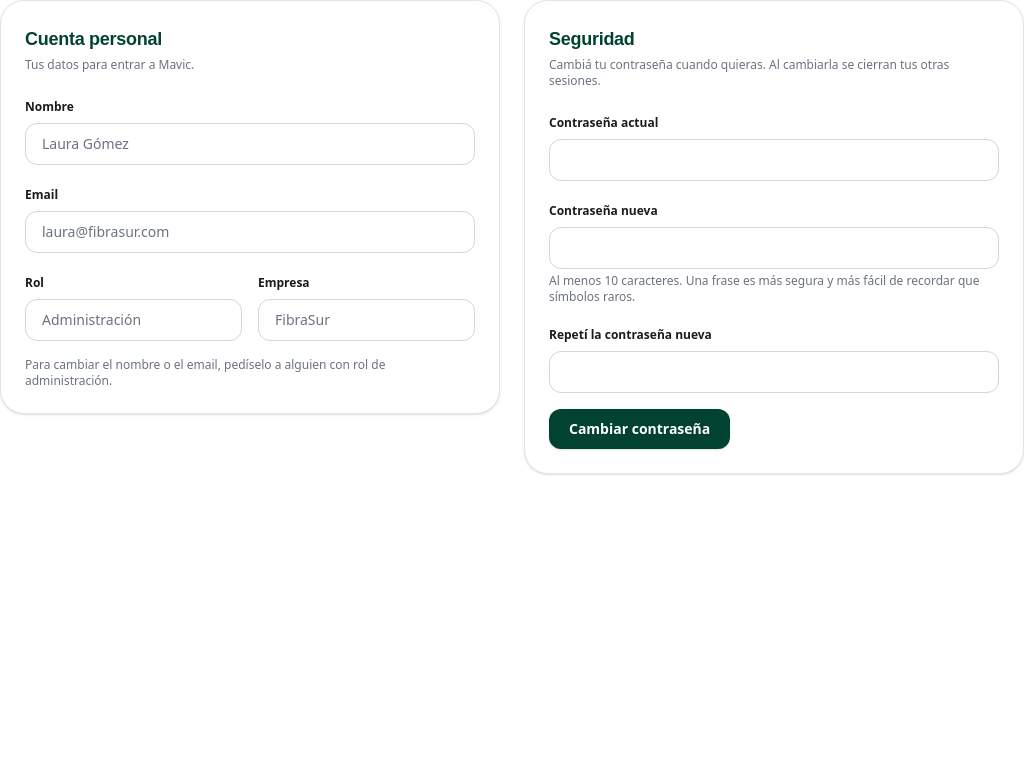
Test: Mi cuenta: cambiar contraseña › si sale bien, avisa que se cerraron las otras sesiones y limpia los campos
Expected: the field showing "Laura Gómez" is shown, [25,123,475,165]
Type "demo-mavic-2026" into the password field labelled "Contraseña actual" at (774, 160), box [549,139,999,181]
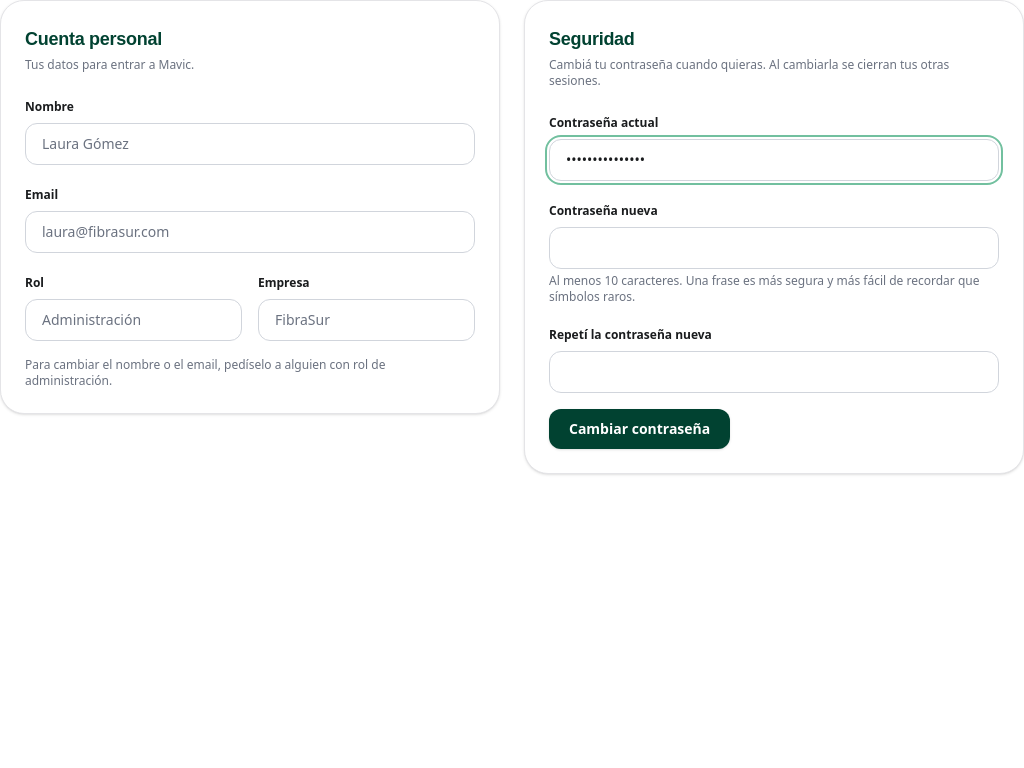
Type "una frase larga" into the password field labelled "Contraseña nueva" at (774, 248), box [549,227,999,269]
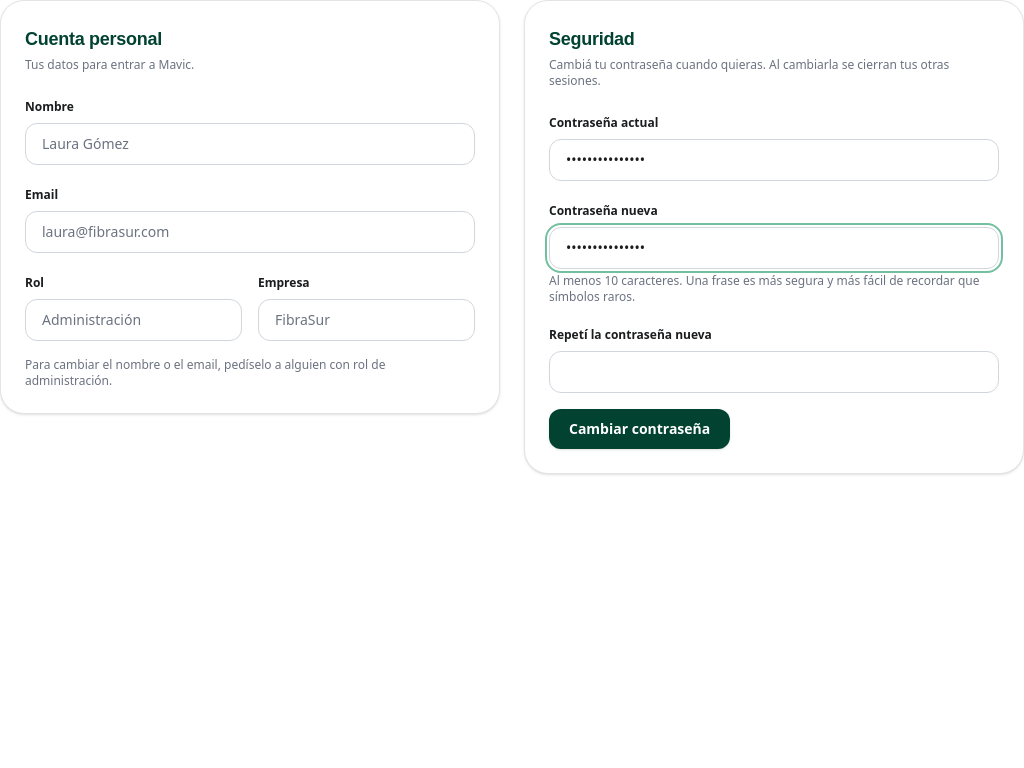
Type "una frase larga" into the password field labelled "Repetí la contraseña nueva" at (774, 372), box [549,351,999,393]
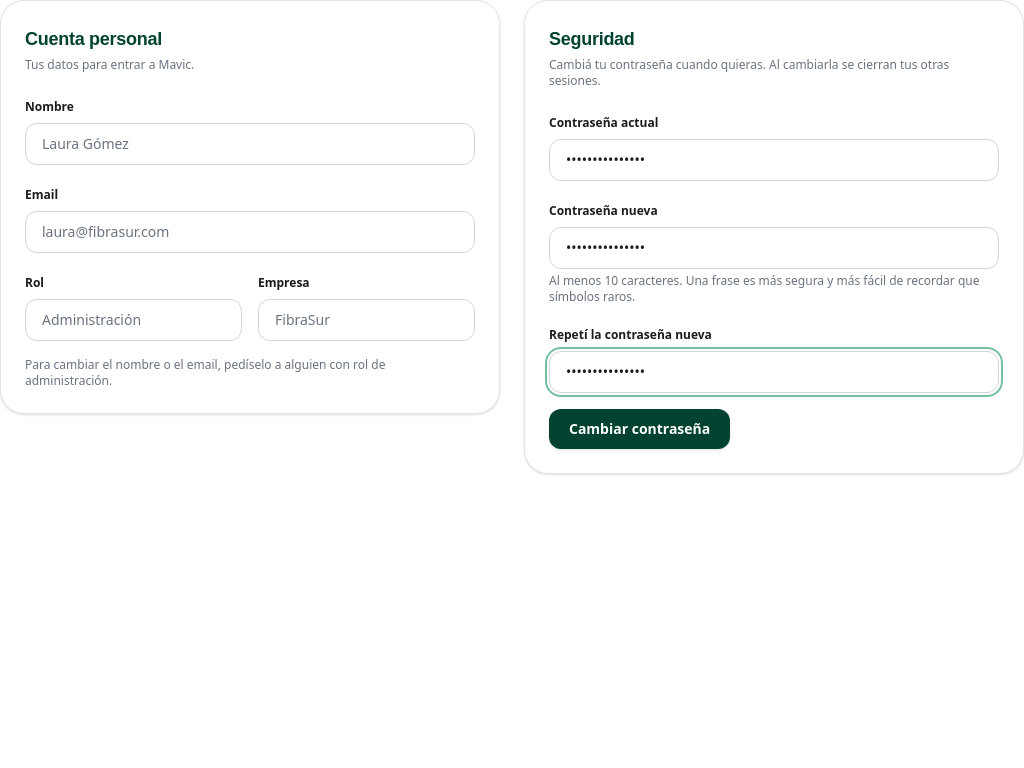
Click the button "Cambiar contraseña" at (640, 429), box [549,409,730,449]
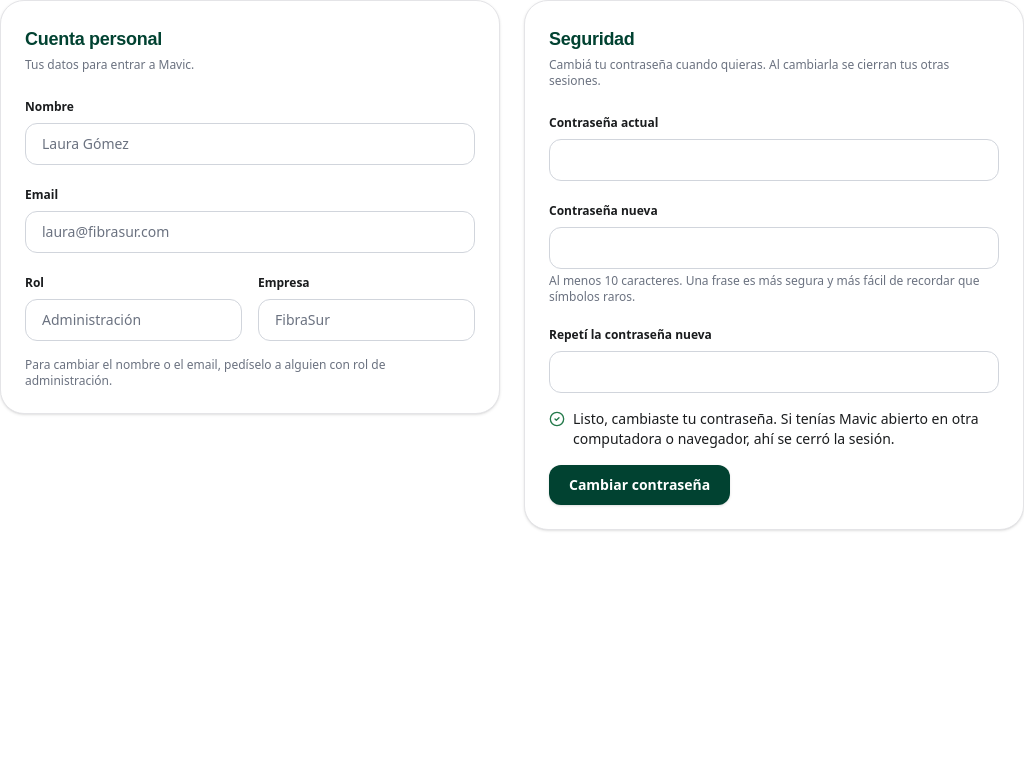
Now the text "Listo, cambiaste tu contraseña" is shown, box [573,409,979,448]
Now the password field labelled "Contraseña actual" is empty, box [549,139,999,181]
